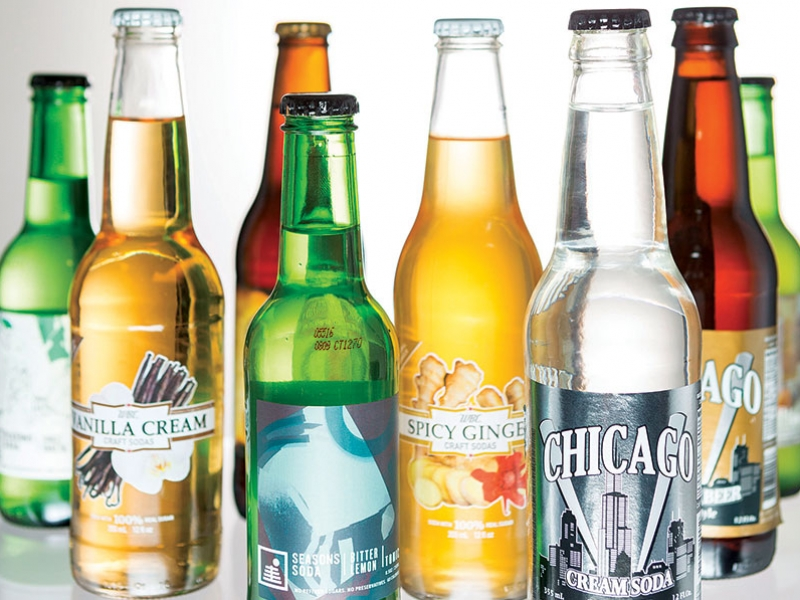Glass bottle: (15, 20, 790, 600)
